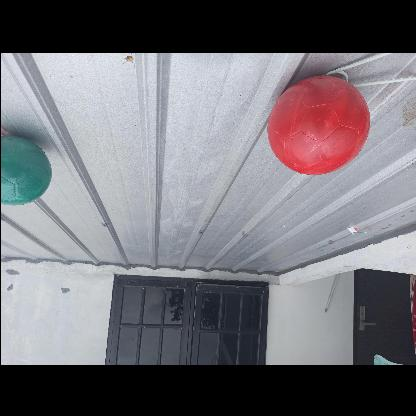red_ball: (264, 74, 367, 176)
